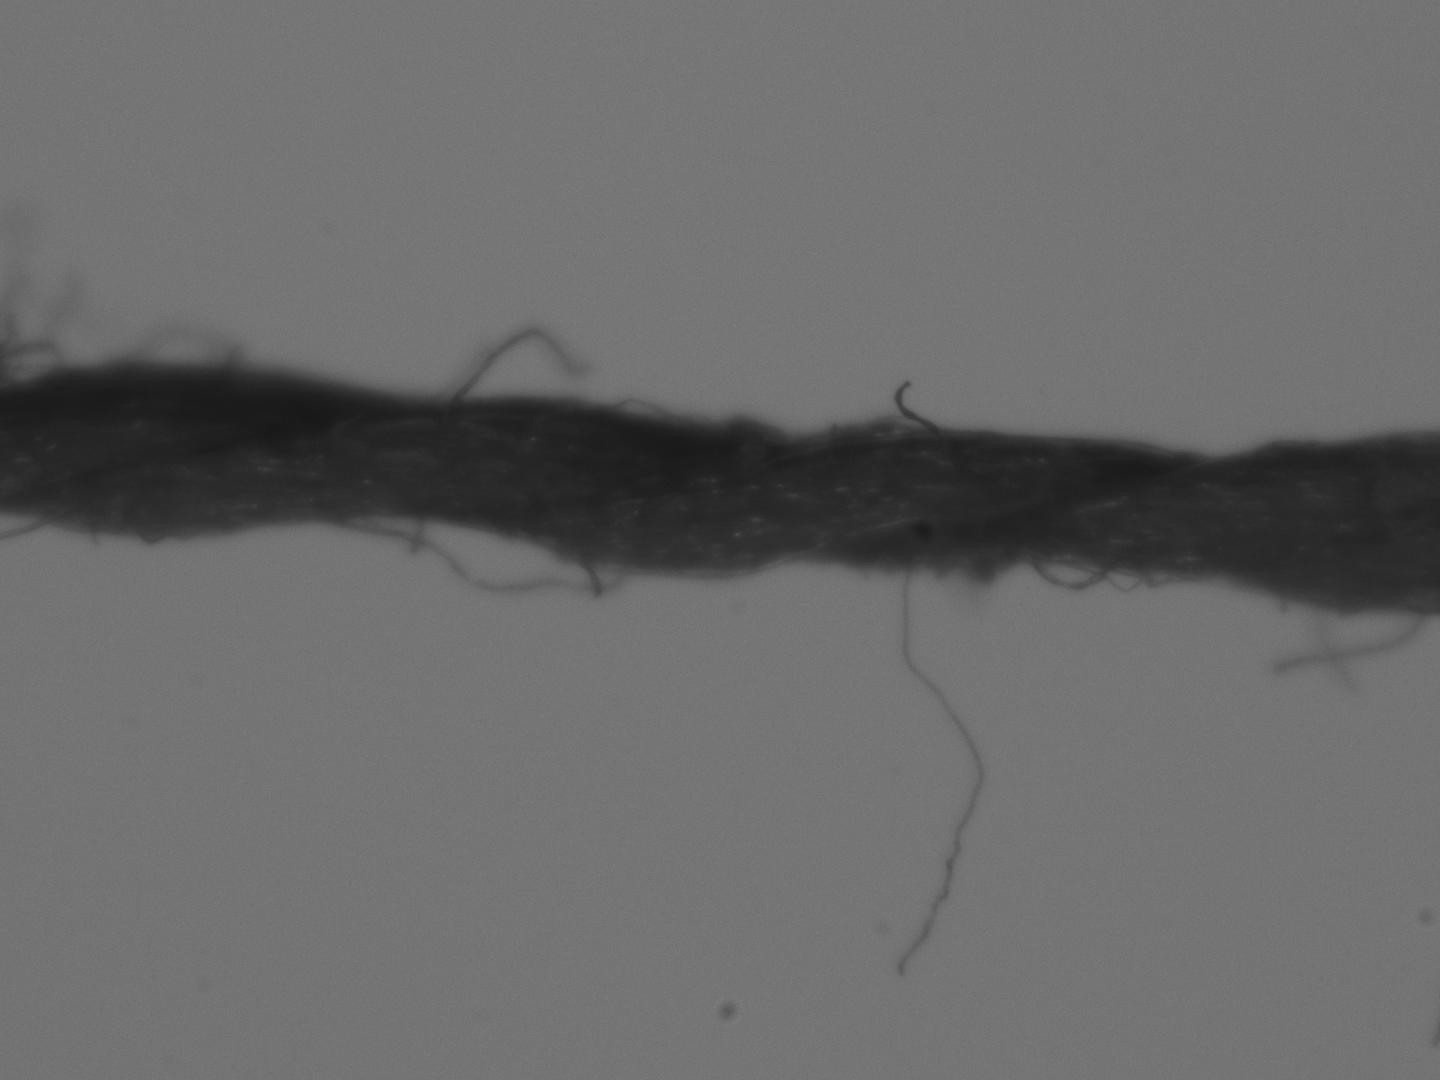loop_fiber: (329, 517, 624, 599), (1019, 554, 1208, 593), (119, 326, 243, 369), (0, 335, 69, 400)
protruding_fiber: (888, 565, 986, 987), (443, 326, 594, 404), (1270, 607, 1426, 678), (1305, 606, 1356, 702), (895, 374, 937, 438)
